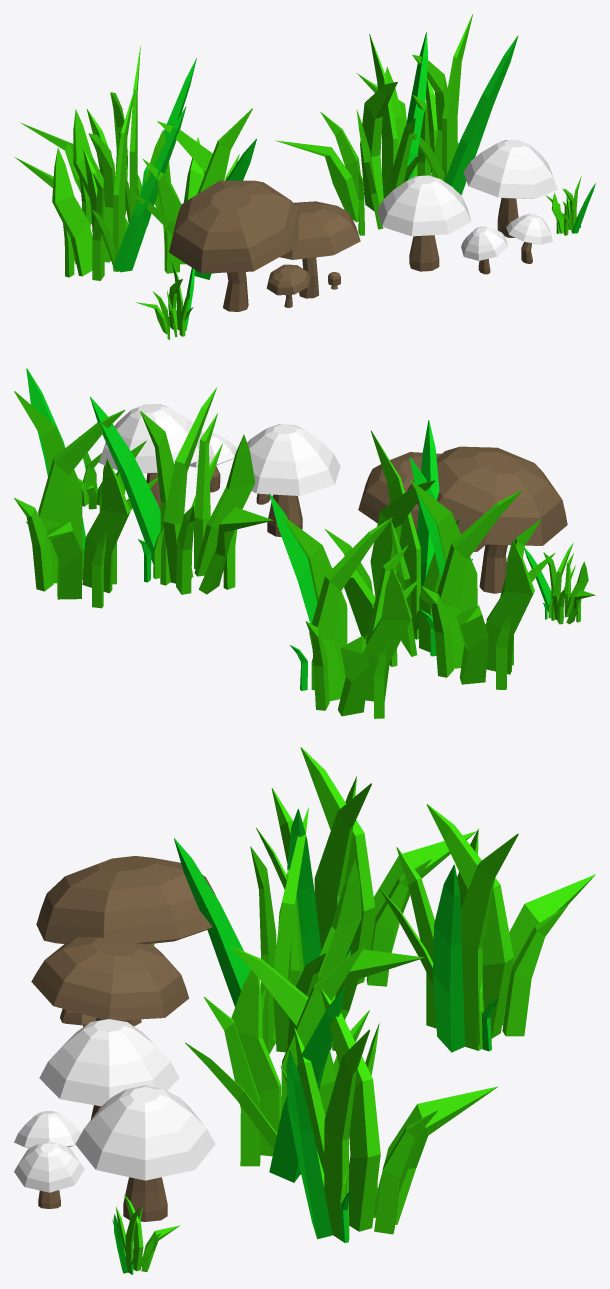
Rendered from Mushrooms.glb.
The picture shows the model from 3 angles, top to bottom: view 1: azimuth 30°, elevation 25°; view 2: azimuth 150°, elevation 25°; view 3: azimuth 270°, elevation 25°; orthographic projection. The views are drawn at different scales.
Parts seen in each view (by area): view 1: Circle.002, Grass.004, Grass, Grass.001, Grass.005, Circle.004, Circle.005, Grass.006, Circle, Grass.003, Circle.006, Circle.007 (+2 smaller); view 2: Grass, Grass.006, Grass.004, Grass.001, Circle.002, Grass.005, Circle.004, Circle.005, Grass.003, Circle, Grass.002, Circle.007; view 3: Grass.006, Grass.001, Grass, Grass.005, Grass.004, Circle.002, Circle.005, Circle, Circle.004, Circle.007, Grass.002, Circle.006.
Part boxes in pixels (x1=…): Circle.002: x1=169, y1=180, x2=300, y2=311; Grass.004: x1=15, y1=89, x2=186, y2=280; Grass: x1=275, y1=32, x2=427, y2=235; Grass.001: x1=357, y1=14, x2=518, y2=195; Grass.005: x1=131, y1=108, x2=256, y2=279; Circle.004: x1=377, y1=175, x2=471, y2=271; Circle.005: x1=463, y1=140, x2=557, y2=237; Grass.006: x1=20, y1=45, x2=196, y2=227; Circle: x1=279, y1=201, x2=360, y2=298; Grass.003: x1=135, y1=261, x2=194, y2=339; Circle.006: x1=461, y1=226, x2=508, y2=274; Circle.007: x1=506, y1=213, x2=552, y2=263; Grass: x1=90, y1=387, x2=273, y2=594; Grass.006: x1=269, y1=493, x2=420, y2=718; Grass.004: x1=409, y1=456, x2=555, y2=689; Grass.001: x1=14, y1=368, x2=158, y2=608; Circle.002: x1=407, y1=446, x2=567, y2=593; Grass.005: x1=324, y1=420, x2=472, y2=666; Circle.004: x1=247, y1=424, x2=340, y2=536; Circle.005: x1=98, y1=404, x2=203, y2=510; Grass.003: x1=524, y1=543, x2=595, y2=624; Circle: x1=358, y1=452, x2=441, y2=533; Grass.002: x1=78, y1=436, x2=116, y2=511; Circle.007: x1=189, y1=433, x2=236, y2=492; Grass.006: x1=379, y1=804, x2=595, y2=1052; Grass.001: x1=280, y1=989, x2=498, y2=1242; Grass: x1=185, y1=945, x2=369, y2=1182; Grass.005: x1=174, y1=807, x2=424, y2=1054; Grass.004: x1=256, y1=747, x2=476, y2=986; Circle.002: x1=36, y1=856, x2=227, y2=1026; Circle.005: x1=75, y1=1085, x2=215, y2=1221; Circle: x1=31, y1=937, x2=189, y2=1020; Circle.004: x1=39, y1=1019, x2=179, y2=1119; Circle.007: x1=14, y1=1141, x2=84, y2=1208; Grass.002: x1=112, y1=1194, x2=180, y2=1274; Circle.006: x1=14, y1=1111, x2=81, y2=1148.
Bounding box in the file's own units: 1.49 × 0.5266 × 1.13.
